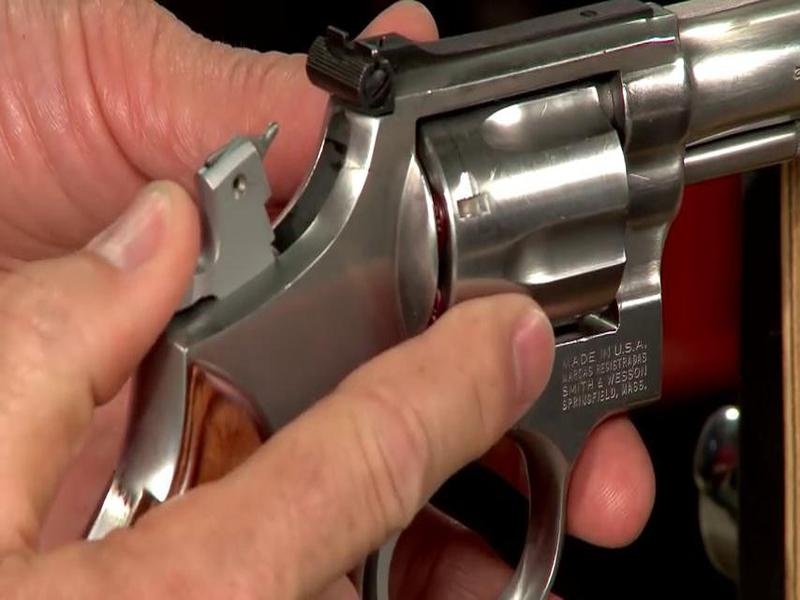Revolver: (74, 1, 800, 560)
